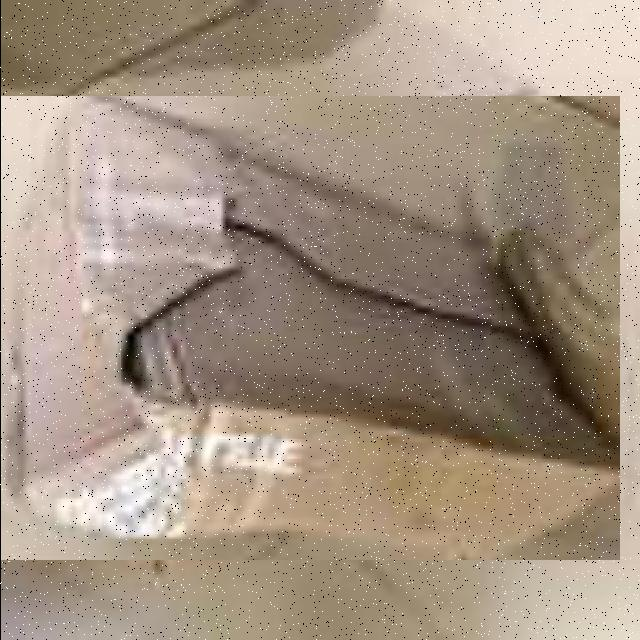defect: (0, 96, 619, 560)
